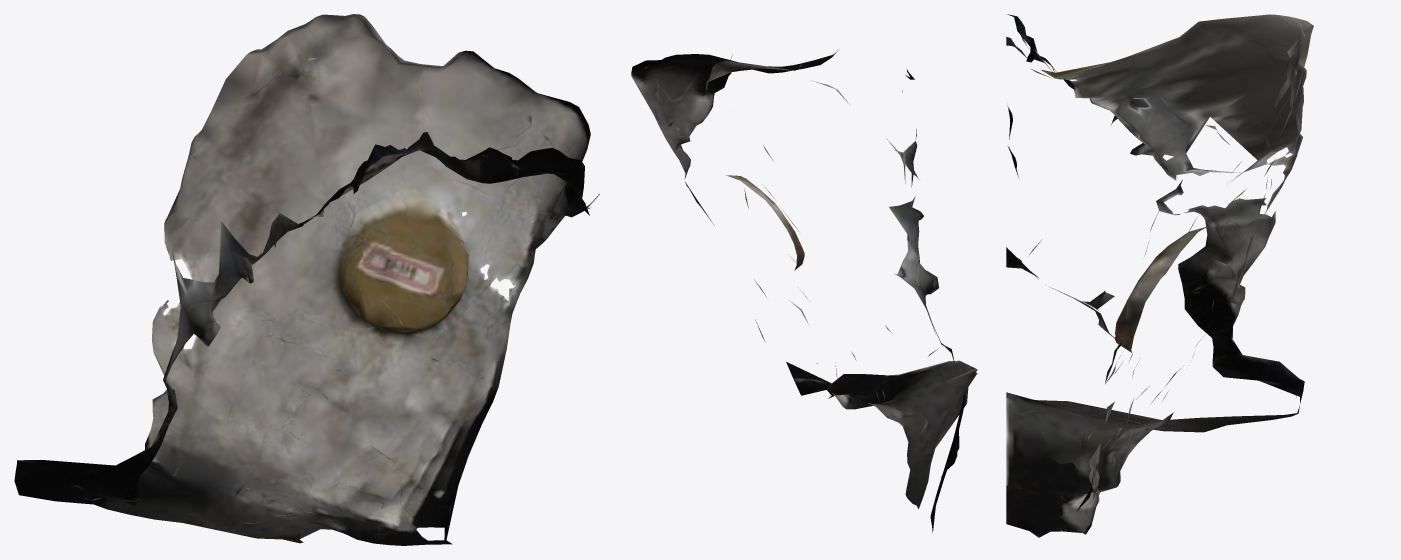
Rendered from hall.glb.
The picture shows the model from 3 angles, left to right: view 1: azimuth 30°, elevation 25°; view 2: azimuth 150°, elevation 25°; view 3: azimuth 270°, elevation 25°; orthographic projection. The views are drawn at different scales.
Bounding box in the file's own units: 0.8487 × 0.7959 × 0.5431.
Materials: 1 (1 with a texture image).
